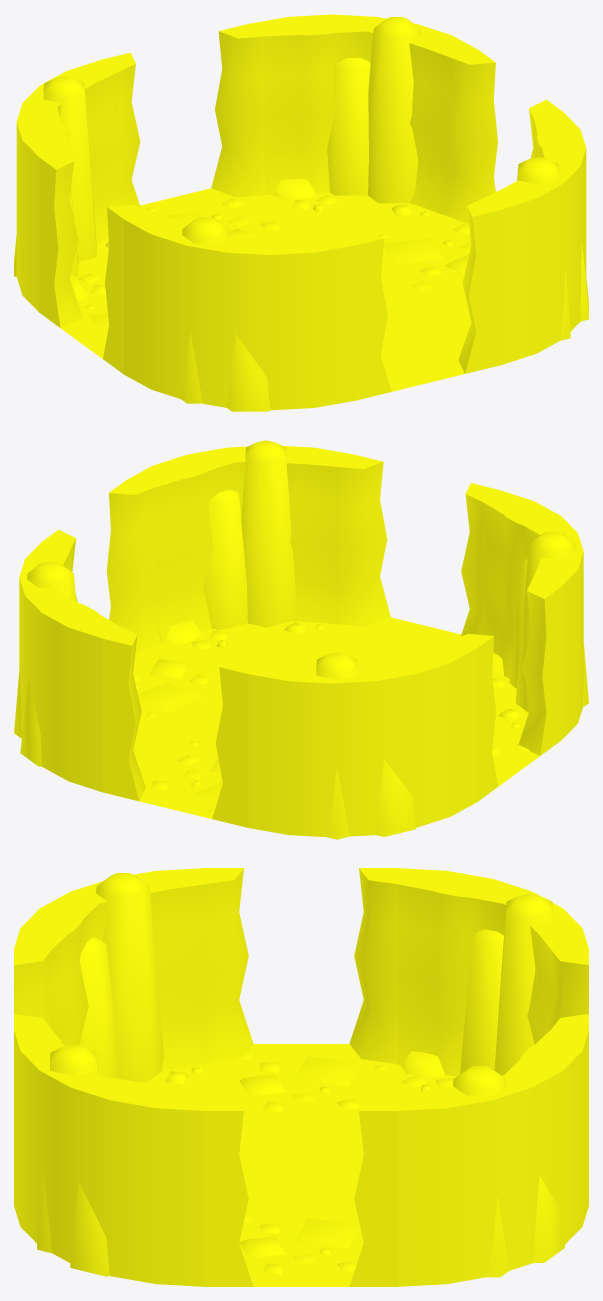
File: 建筑构件_房间_小.glb
3 views of the same model, one above another, from view 1: azimuth 30°, elevation 25°; view 2: azimuth 150°, elevation 25°; view 3: azimuth 270°, elevation 25° (orthographic). The views are drawn at different scales.
Parts seen in each view (by area): view 1: room-small; view 2: room-small; view 3: room-small.
Part boxes in pixels (<box>): room-small: <box>14,14,588,411</box>; room-small: <box>14,440,588,839</box>; room-small: <box>14,868,588,1286</box>.
Size of the model in its own units: 12 by 4.4 by 12.
1 material, 1 textured.
